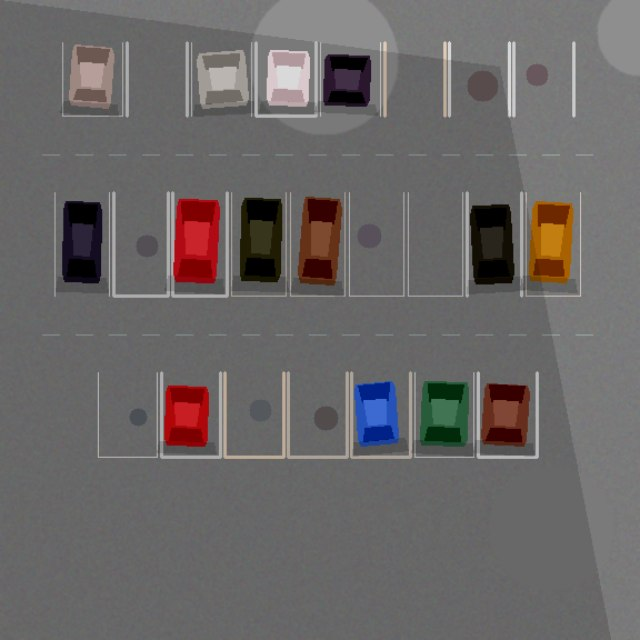space-empty: (113, 192, 168, 296), (349, 192, 403, 296), (408, 192, 462, 296), (98, 372, 157, 457), (224, 372, 283, 457), (288, 372, 347, 457), (127, 42, 187, 116), (384, 42, 444, 116), (449, 42, 509, 116), (513, 42, 573, 116)
space-occupied: (54, 192, 109, 296), (172, 192, 227, 296), (231, 192, 286, 296), (290, 192, 344, 296), (467, 192, 521, 296), (526, 192, 580, 296), (161, 372, 220, 457), (351, 372, 410, 457), (414, 372, 473, 457), (478, 372, 537, 457), (62, 42, 122, 116), (191, 42, 251, 116), (256, 42, 316, 116), (320, 42, 380, 116)
